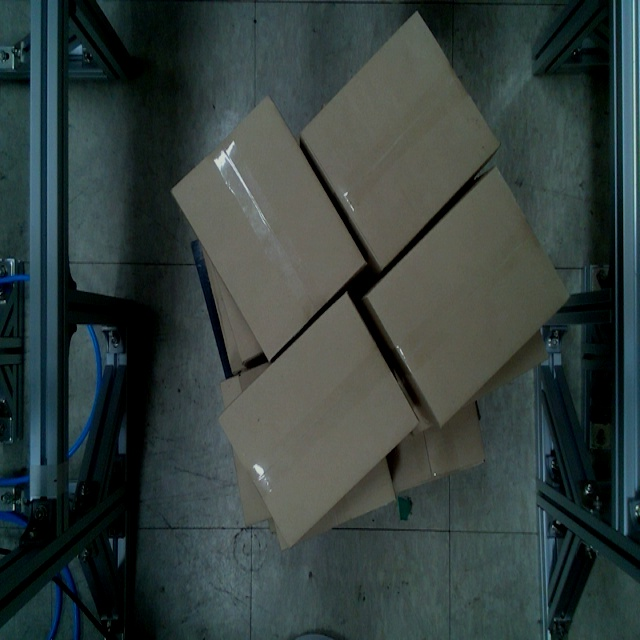box: (363, 163, 570, 435), (215, 288, 422, 557), (297, 9, 500, 277), (173, 89, 359, 367)
